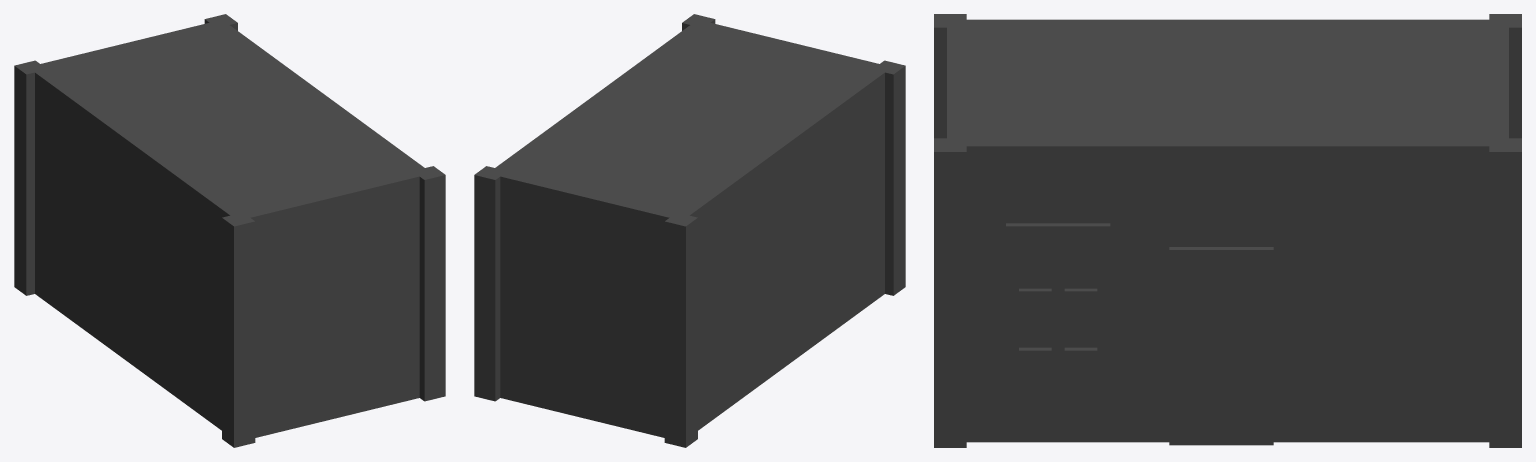
Rendered from House.obj.
3 views of the same model, side by side, from view 1: azimuth 30°, elevation 25°; view 2: azimuth 150°, elevation 25°; view 3: azimuth 270°, elevation 25° (orthographic). The views are drawn at different scales.
Bounding box in the file's own units: 5 × 5 × 9.
